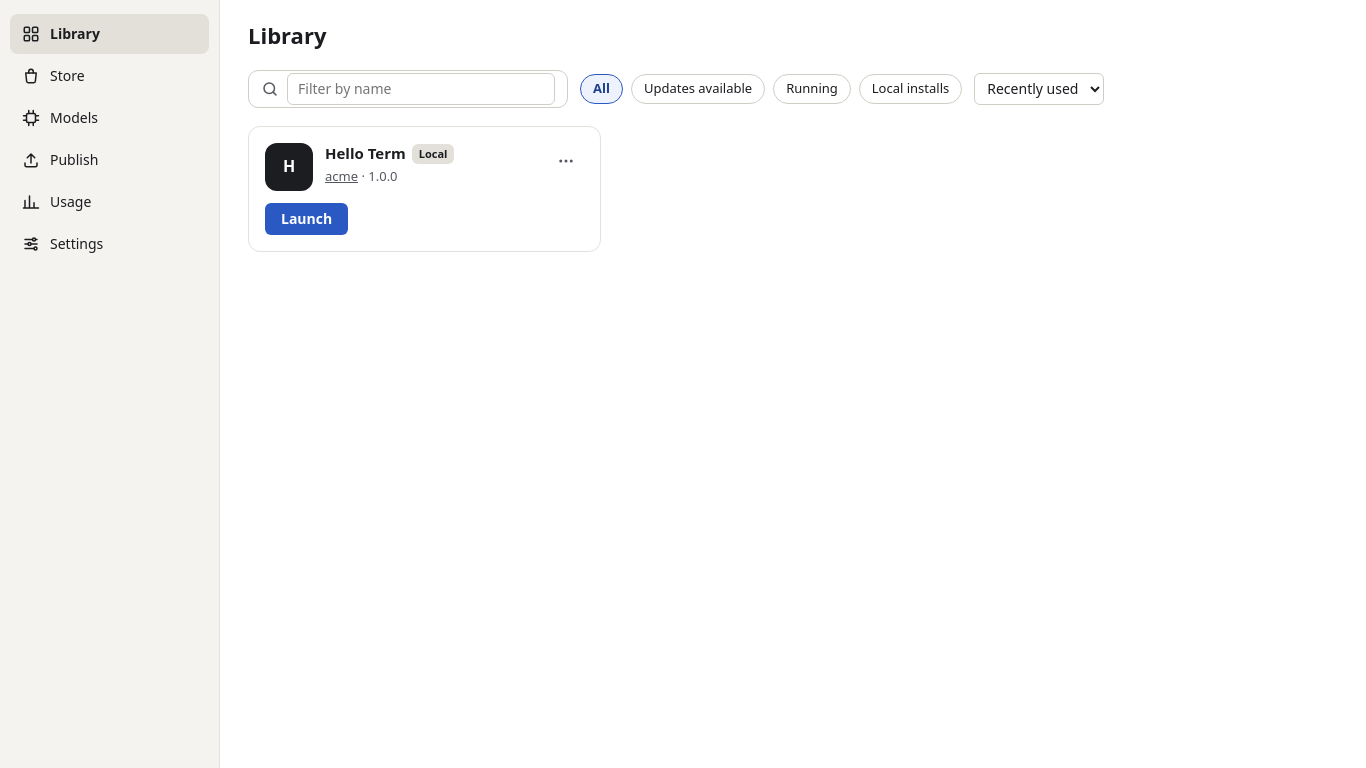
Test: the card menu › lists View in Store, Model Overrides, Show logs, Open data folder and Uninstall, the first one focused
Click the button named "More actions for Hello Term": (566, 161) [548,143,584,179]
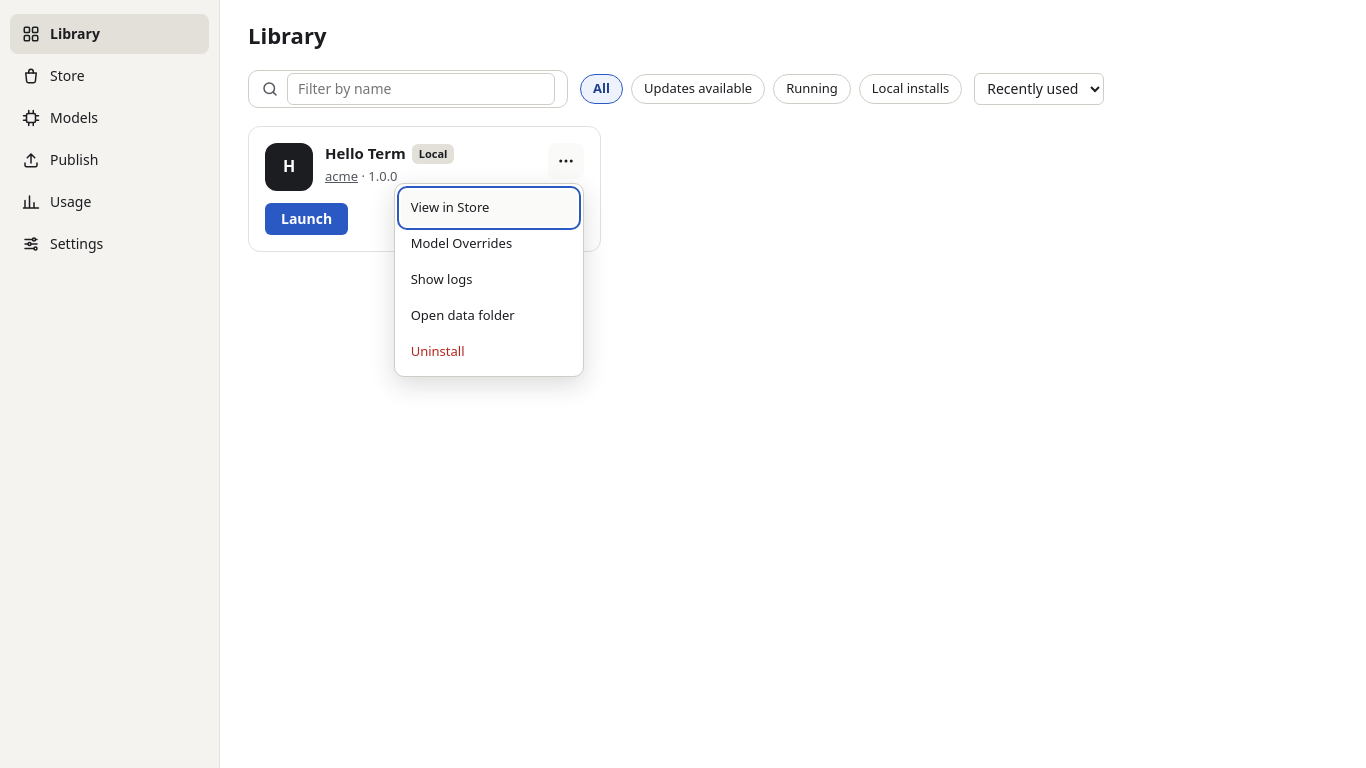
Expected: the menu items read "View in Store", "Model Overrides", "Show logs", "Open data folder", "Uninstall", in this order, [401,190,577,226]; [401,226,577,262]; [401,262,577,298]; [401,298,577,334]; [401,334,577,370]
Press ArrowDown in the menu named "More actions for Hello Term", box [394,183,584,377]
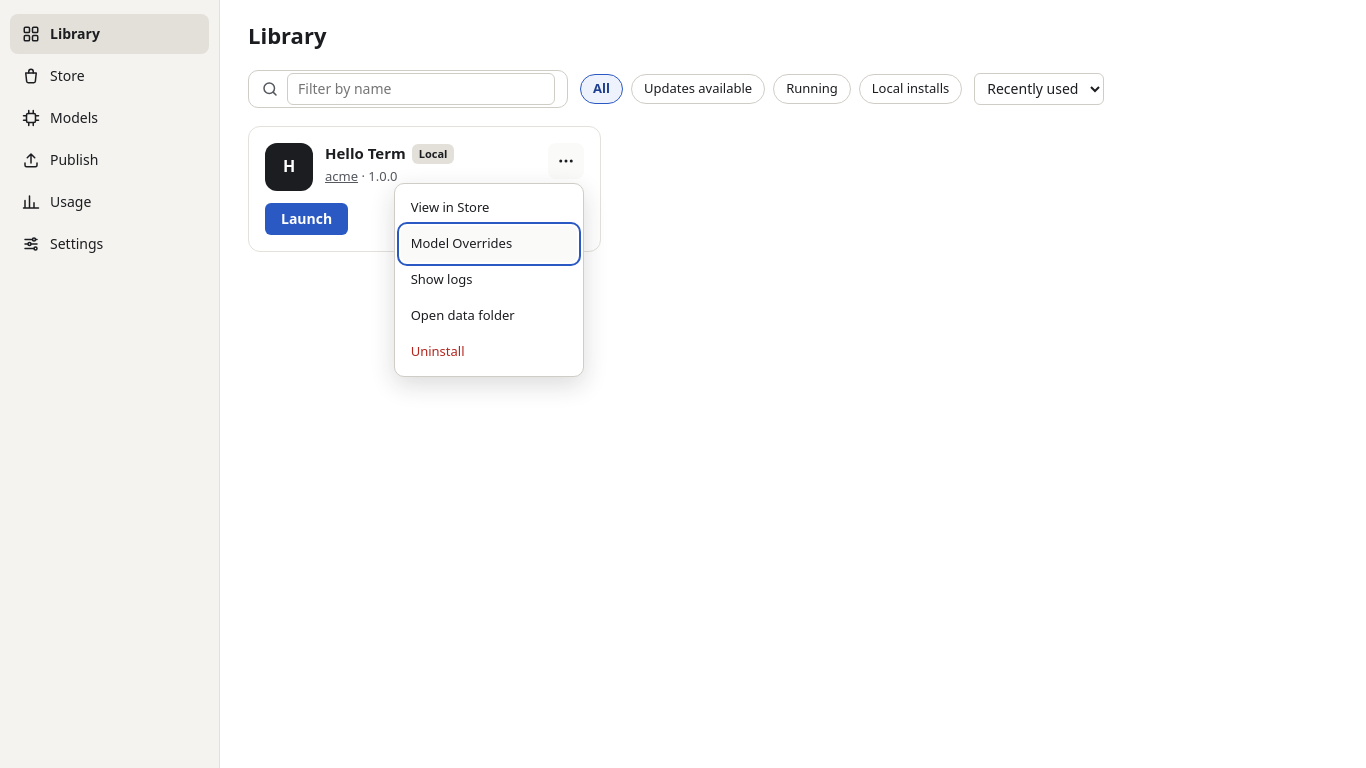
Press ArrowUp in the menu named "More actions for Hello Term", box [394,183,584,377]
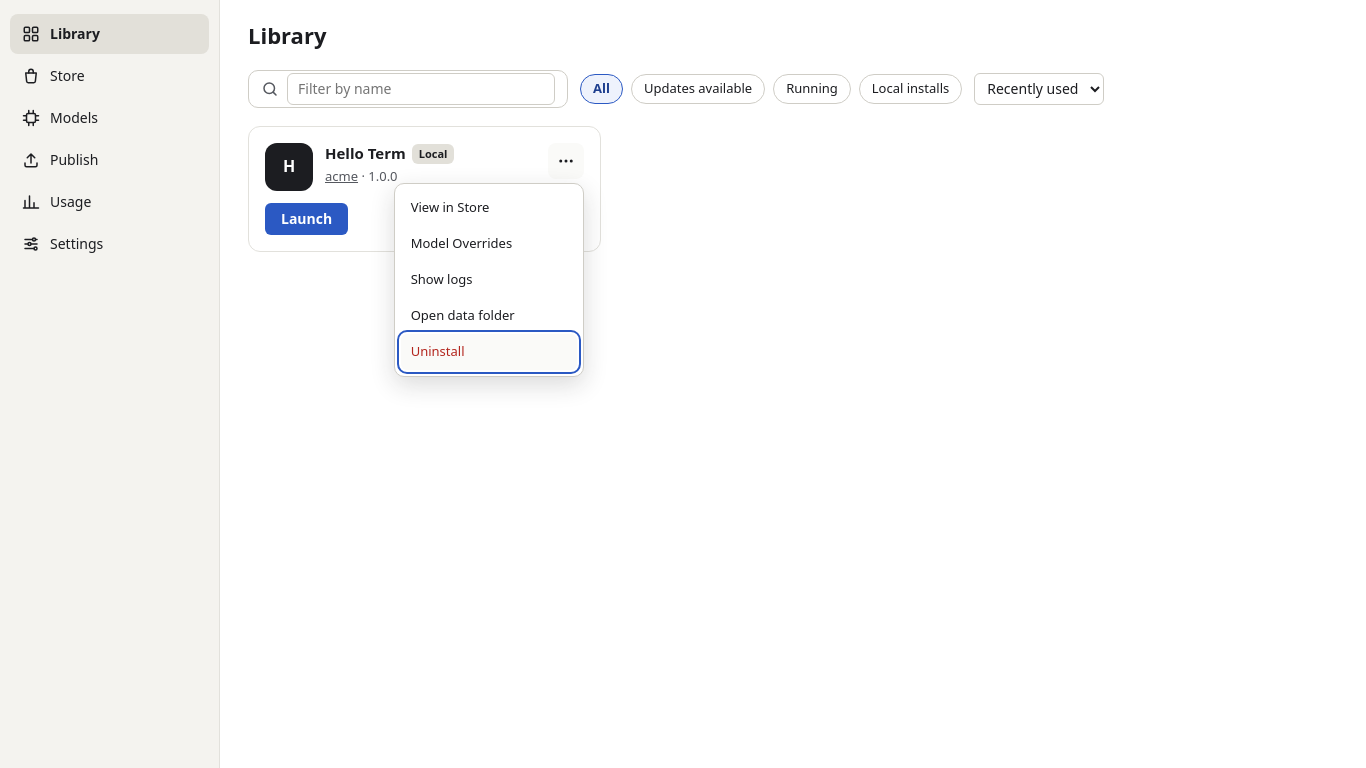
Press Escape in the menu named "More actions for Hello Term", box [394,183,584,377]
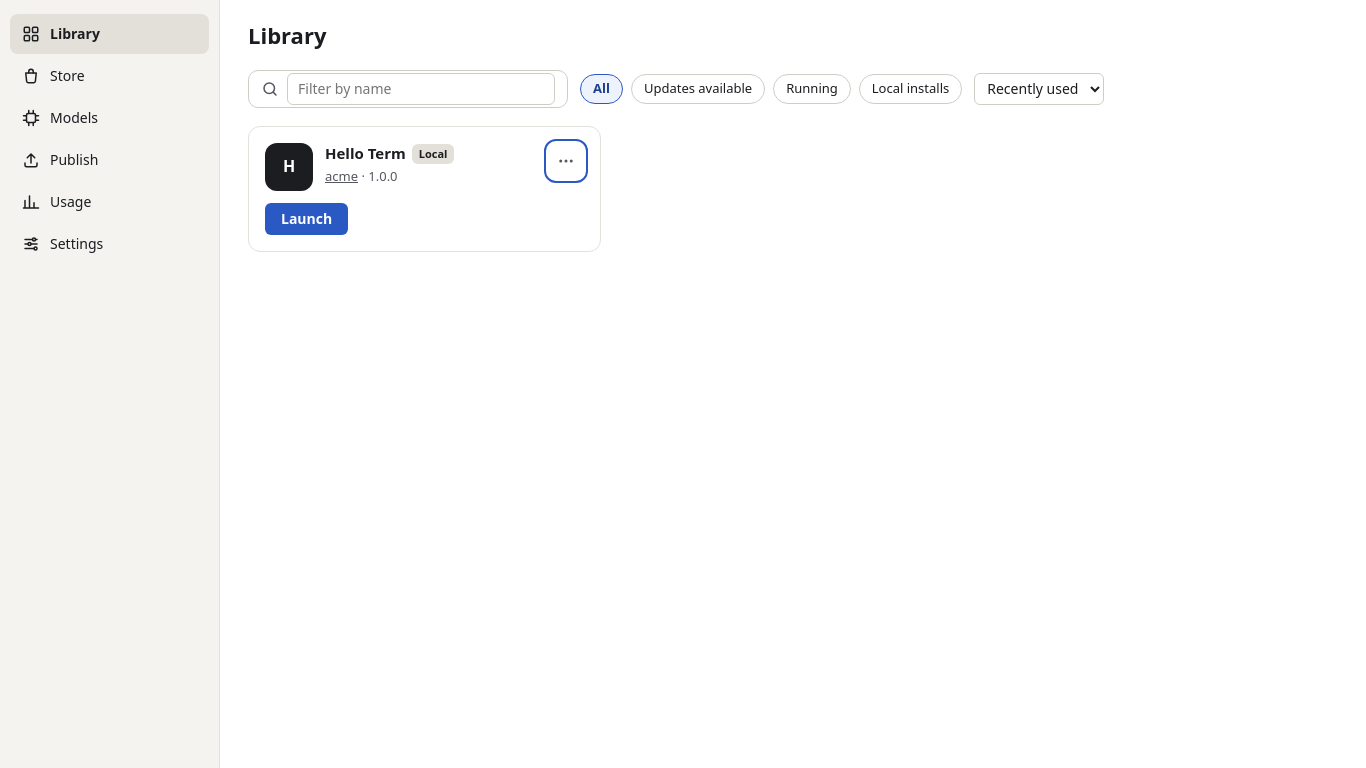
Expected: the menu is gone
